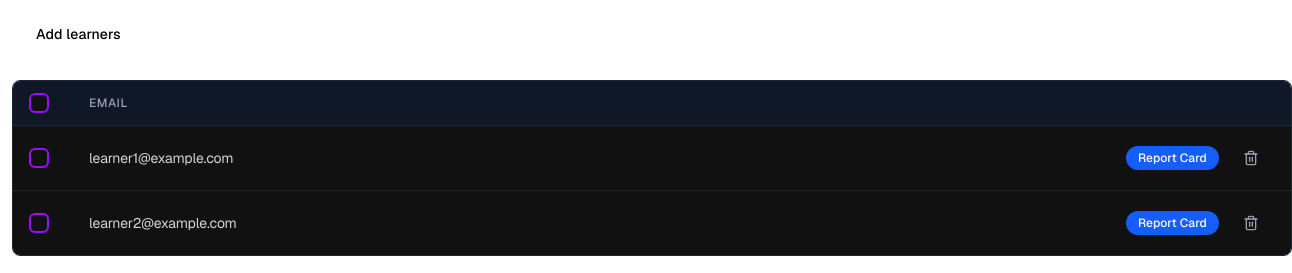
Test: CohortMemberManagement Component › Member Selection Functionality › shows remove selected button when members are selected
Click the checkbox next to "learner1@example.com" at (39, 158), box [29, 148, 49, 168]
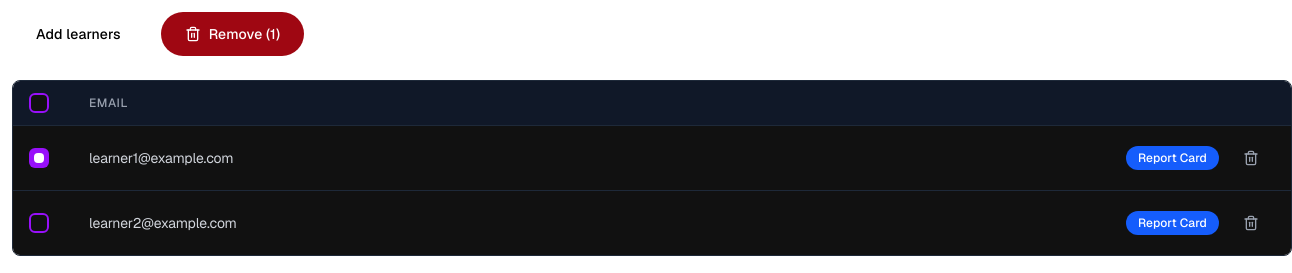
Expected: the button "Remove (1)" is shown, [161, 12, 304, 56]
